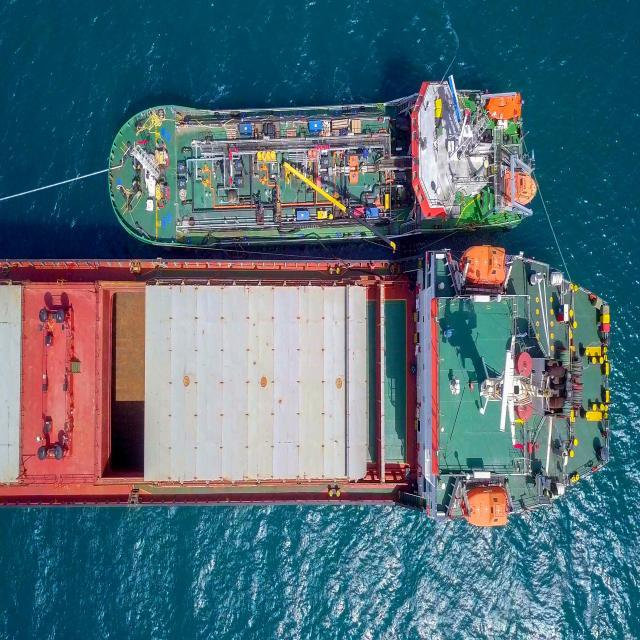ship2: (0, 244, 610, 525), (104, 84, 535, 248)
